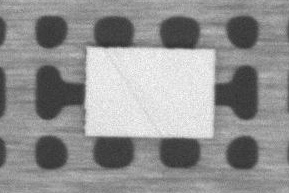DIE_CRACK: (104, 53, 159, 131)
